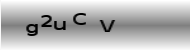2: (39, 13, 53, 28)
C: (71, 11, 87, 25)
V: (99, 18, 115, 33)
g: (24, 22, 38, 37)
u: (52, 19, 66, 30)
